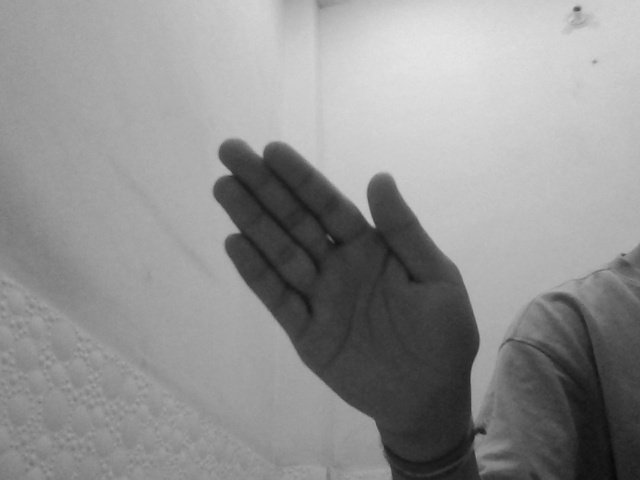Hello: (208, 133, 486, 431)
